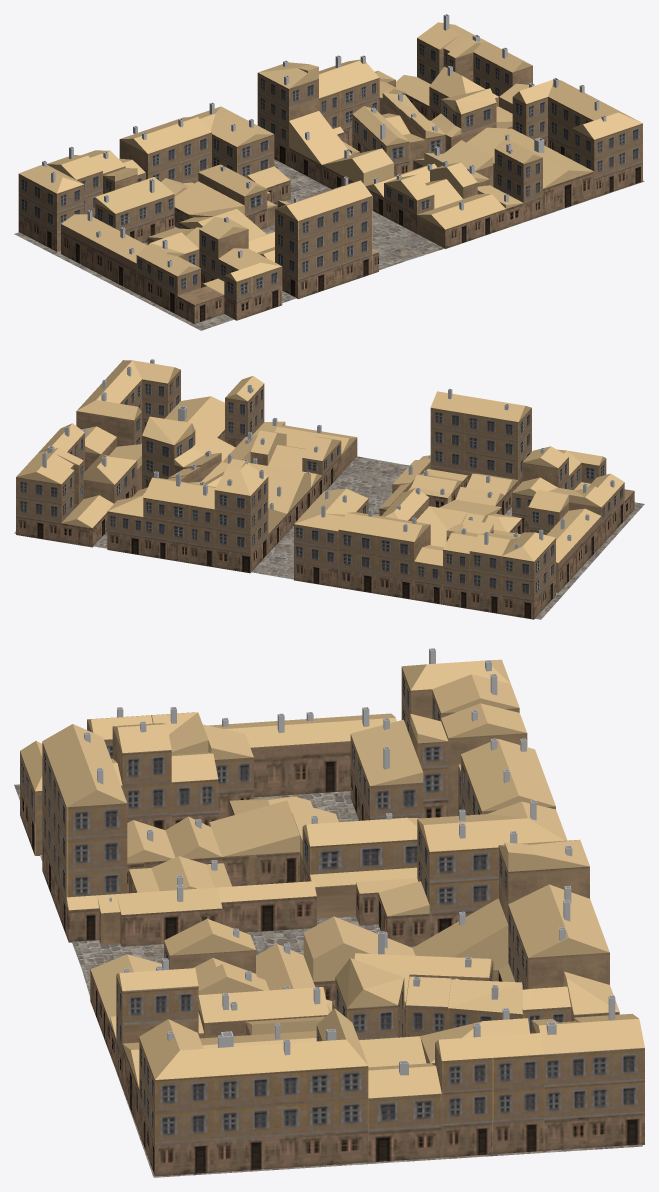
Rendered from IDL_Etape4.dae.
3 views of the same model, one above another, from view 1: azimuth 30°, elevation 25°; view 2: azimuth 150°, elevation 25°; view 3: azimuth 270°, elevation 25° (orthographic). The views are drawn at different scales.
Visible parts, largest first — view 1: Batis, Sol, Cheminees; view 2: Batis, Sol, Cheminees; view 3: Batis, Cheminees, Sol.
Part boxes in pixels (<box>): Batis: <box>18,22,642,323</box>; Sol: <box>14,145,644,330</box>; Cheminees: <box>42,14,606,267</box>; Batis: <box>16,360,634,619</box>; Sol: <box>14,456,644,619</box>; Cheminees: <box>42,359,614,549</box>; Batis: <box>20,659,644,1176</box>; Cheminees: <box>84,648,615,1075</box>; Sol: <box>14,784,642,1177</box>.
Bounding box in the file's own units: 358 × 224 × 60.53.
